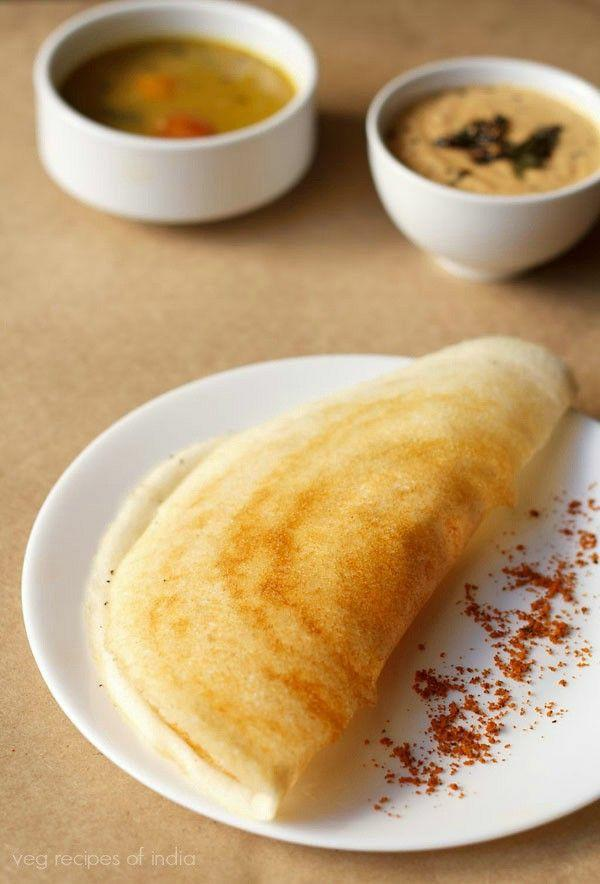Dosa: (88, 338, 576, 824)
